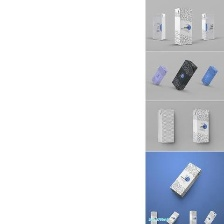carton: (165, 160, 203, 199), (170, 6, 195, 47), (187, 105, 212, 145), (170, 57, 197, 94), (155, 105, 178, 146), (197, 11, 217, 42), (147, 12, 167, 40), (148, 62, 168, 88), (199, 63, 219, 88), (201, 207, 220, 224), (162, 207, 181, 223), (146, 207, 160, 224), (186, 207, 199, 224)
